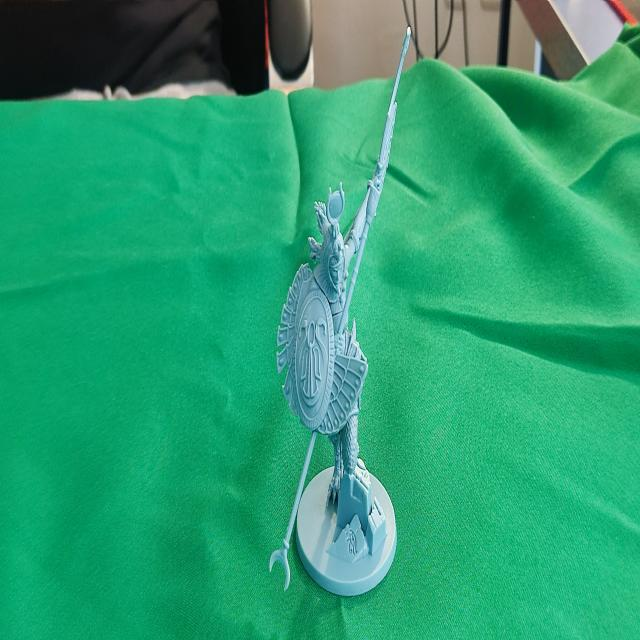isis: (261, 11, 429, 622)
